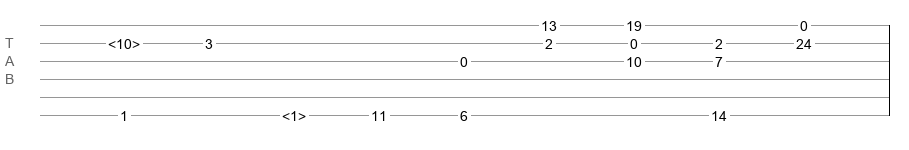0: (460, 54, 468, 64), (630, 36, 638, 46), (800, 18, 808, 28)
1: (120, 108, 128, 118)
10: (626, 54, 642, 64)
11: (371, 108, 387, 118)
13: (541, 18, 557, 28)
14: (711, 108, 727, 118)
19: (626, 18, 642, 28)
2: (545, 36, 553, 46), (715, 36, 723, 46)
24: (796, 36, 812, 46)
3: (205, 36, 213, 46)
6: (460, 108, 468, 118)
7: (715, 54, 723, 64)
harmonic: (108, 36, 140, 46), (282, 108, 306, 118)
